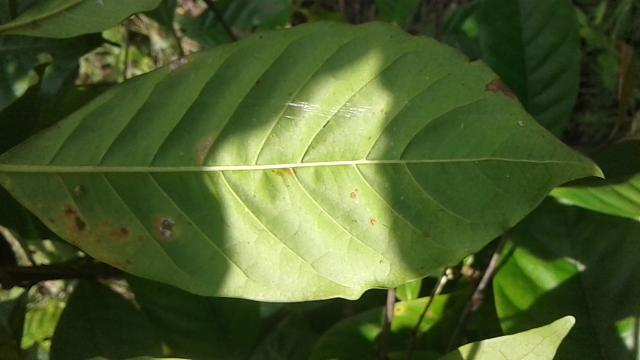rust_level_2: (0, 14, 608, 306)
